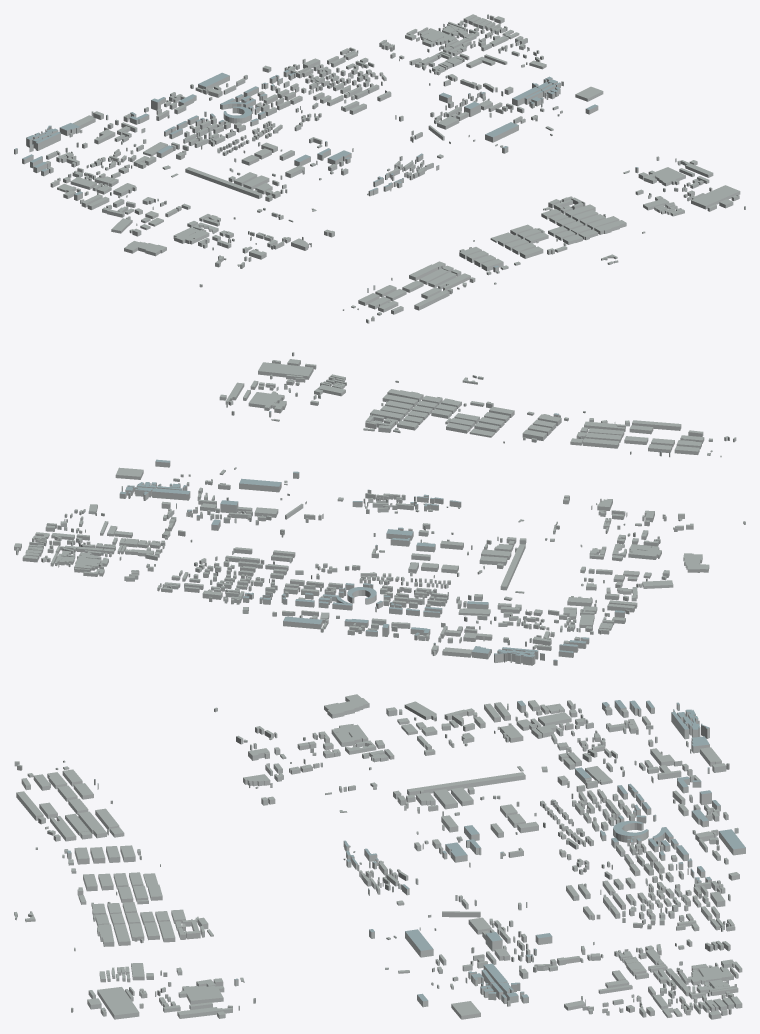
The model's file is far.glb.
3 views of the same model, one above another, from view 1: azimuth 30°, elevation 25°; view 2: azimuth 150°, elevation 25°; view 3: azimuth 270°, elevation 25° (orthographic). The views are drawn at different scales.
Bounding box in the file's own units: 2171 × 34.24 × 2089.
